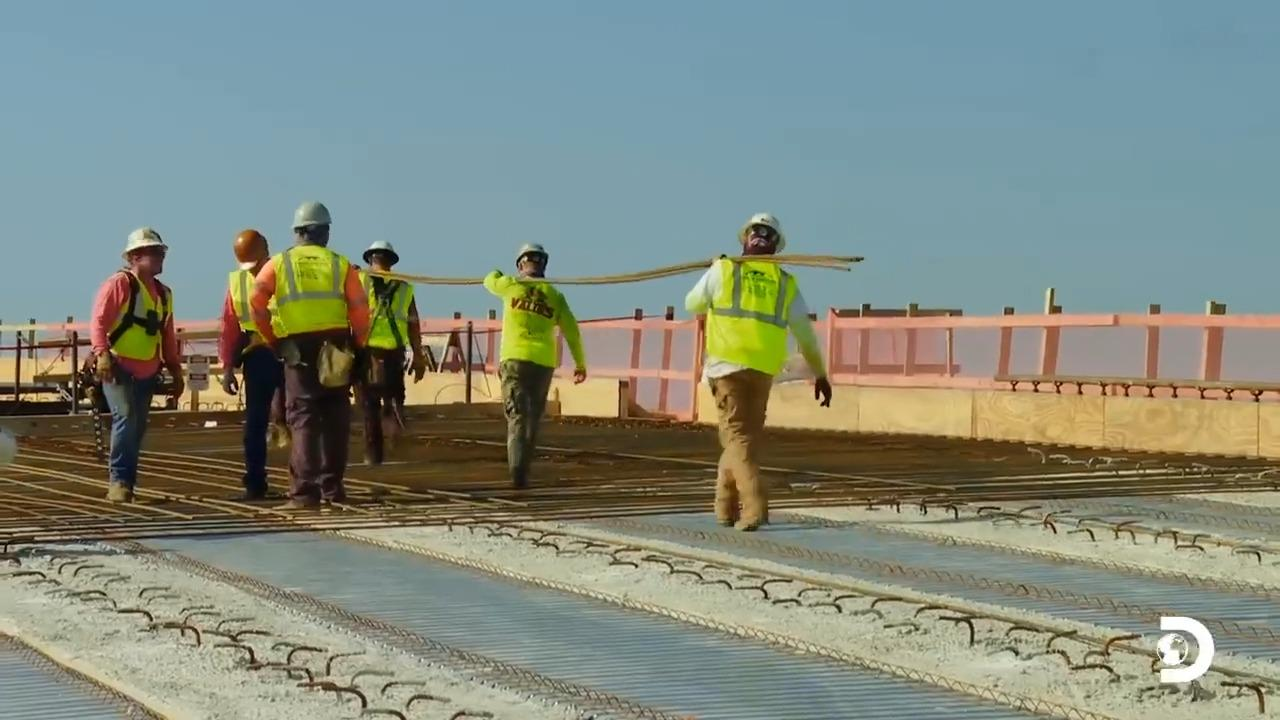Gloves: (801, 371, 836, 409), (94, 351, 116, 386), (407, 349, 426, 377), (219, 368, 238, 395)
Helmet: (738, 212, 785, 254), (233, 229, 268, 264), (291, 200, 331, 229), (123, 227, 167, 253), (515, 242, 548, 272), (362, 239, 399, 265)
Person: (684, 212, 832, 531), (248, 200, 371, 510), (84, 227, 184, 503), (482, 241, 586, 488), (216, 228, 289, 502), (350, 239, 426, 466)
Safety Boot: (722, 511, 765, 533), (106, 480, 140, 507), (279, 497, 316, 516), (233, 484, 261, 500)
Safety Vest: (709, 272, 780, 373), (276, 260, 344, 337), (113, 283, 167, 372), (370, 272, 404, 341), (231, 273, 264, 333)
no-vest: (505, 281, 562, 367)
